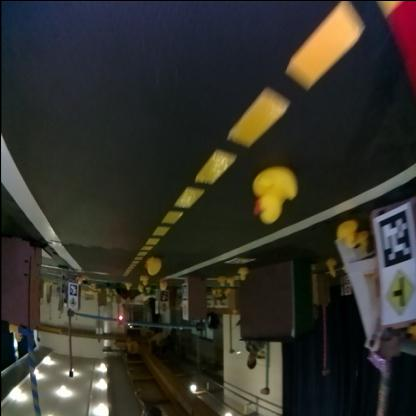Duckie: (254, 170, 296, 224), (336, 220, 358, 247), (145, 256, 161, 274), (356, 230, 367, 249), (238, 269, 248, 281), (140, 276, 148, 286), (218, 276, 226, 286), (159, 280, 167, 288), (125, 282, 132, 290), (227, 278, 234, 286), (145, 287, 151, 293), (138, 284, 140, 292)
Intersection sign: (382, 271, 414, 322), (69, 298, 77, 308)
QR code: (378, 209, 412, 266), (70, 284, 76, 296)
